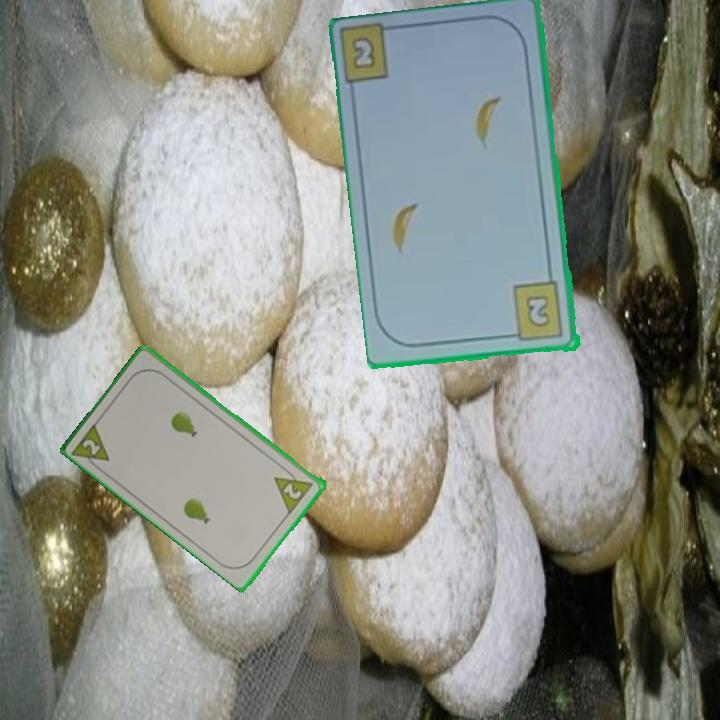2b: (505, 279, 567, 345), (348, 33, 379, 73)
2p: (69, 418, 113, 474), (271, 463, 317, 516)
